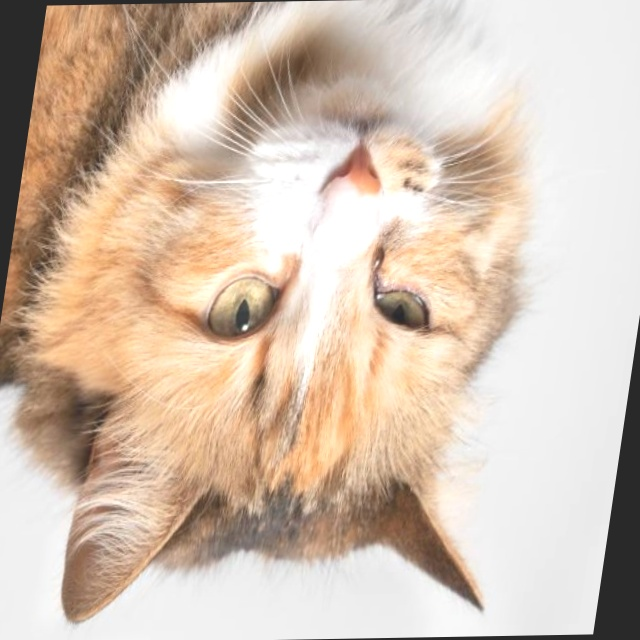eye_infection: (359, 248, 434, 338)
